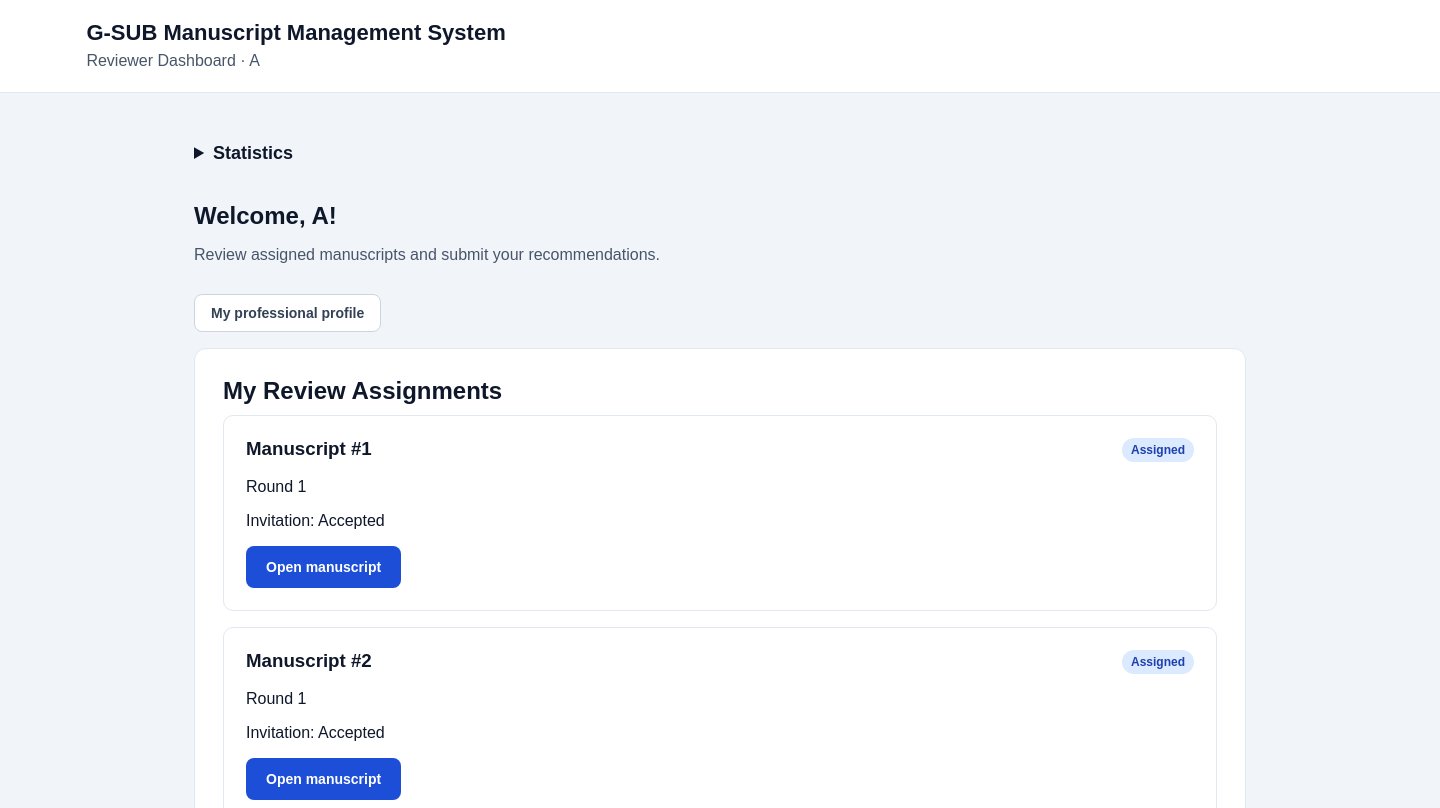
it: does not leak a URL when revoke-getter-throws occurs before creation completes
Step 1. Click the button "Open manuscript" below "Manuscript #1" → click(324, 567), box [246,546,401,588]
(page scrolled)
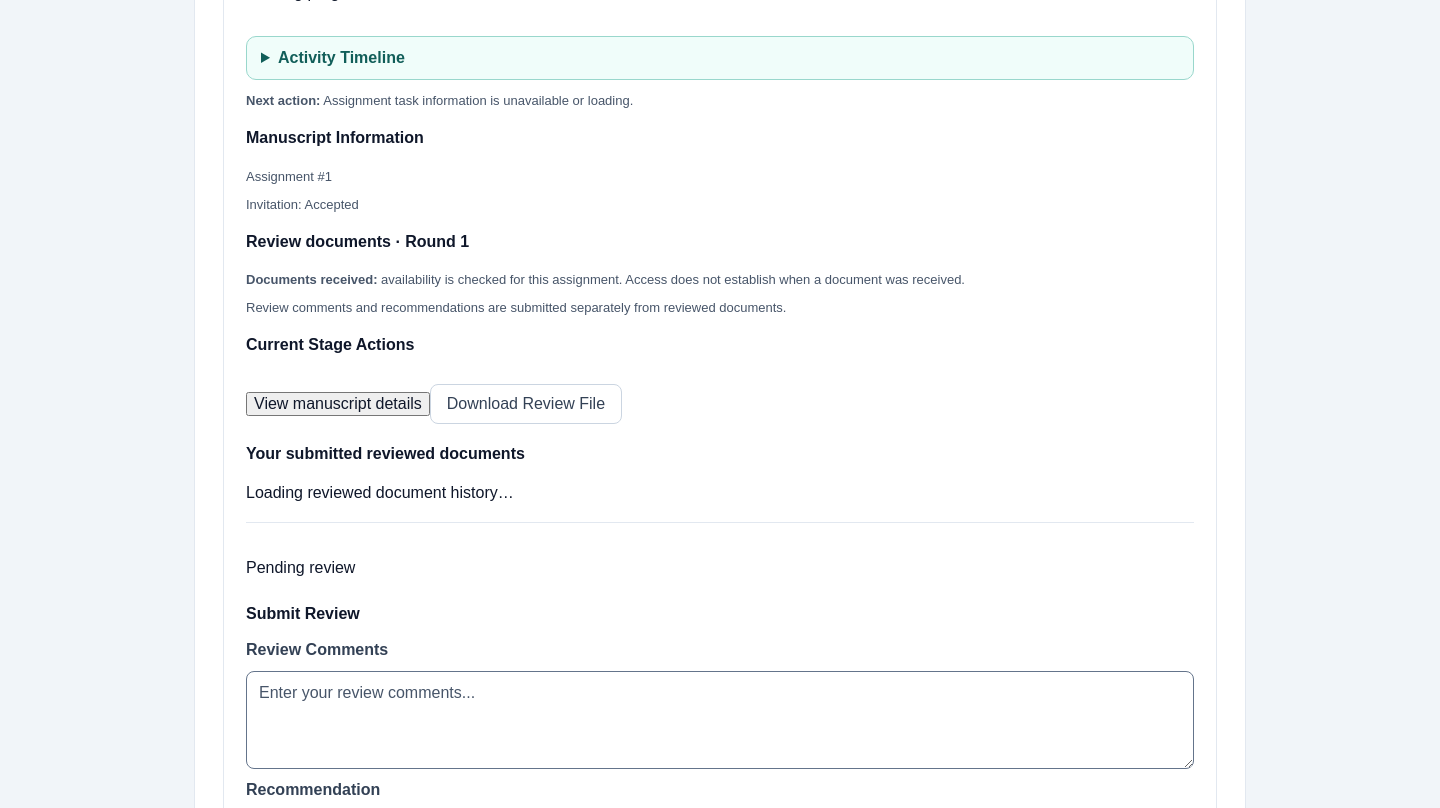
Step 2. Click the button "Download Review File" → click(526, 404), box [430,384,622,424]
(page scrolled)
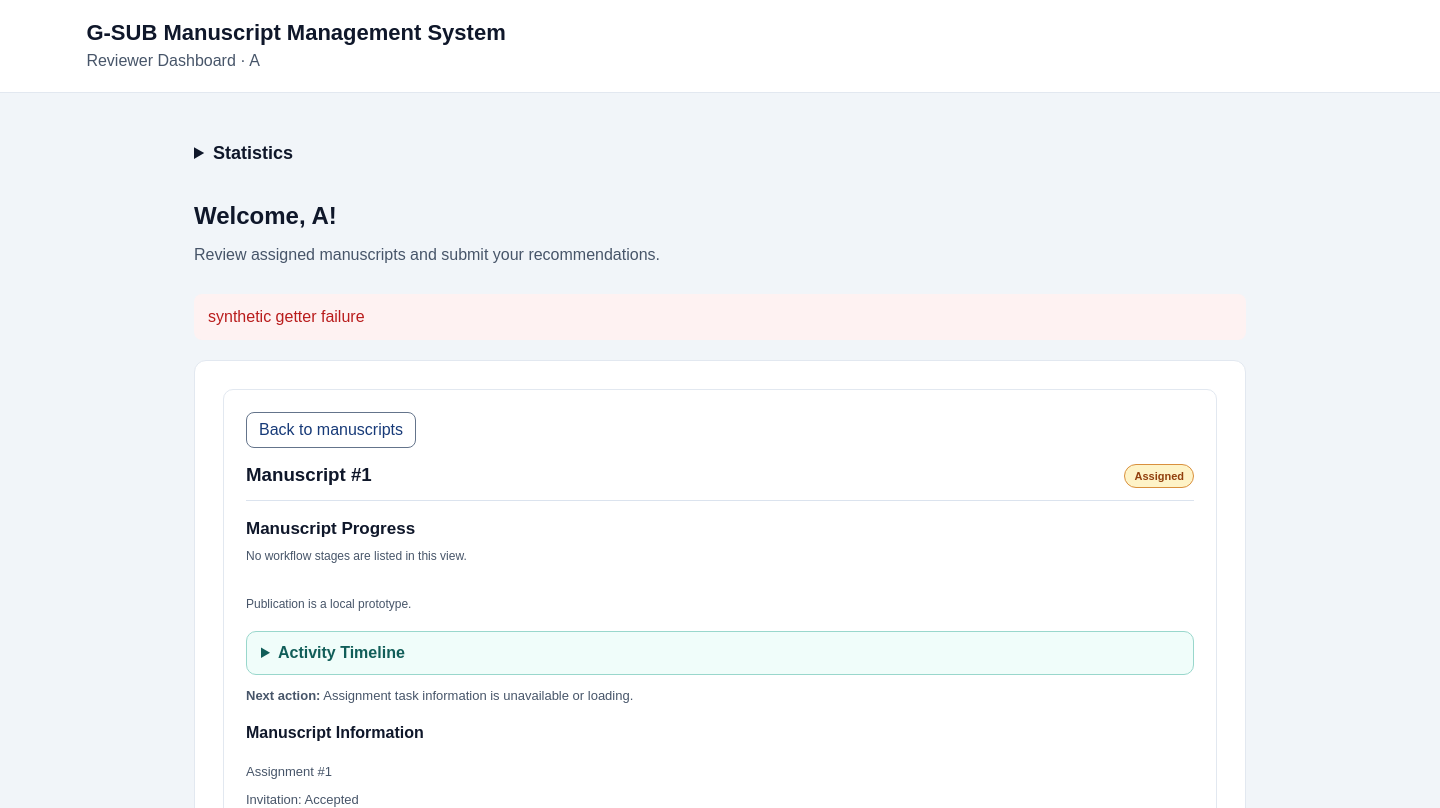
Expected: the message "synthetic getter failure" is shown, [194,294,1246,340]
